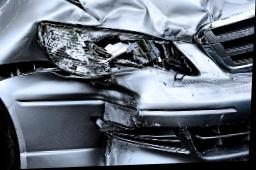Bonnet: (76, 0, 244, 46)
Bumper: (3, 76, 238, 170)
Light: (38, 23, 183, 80)
